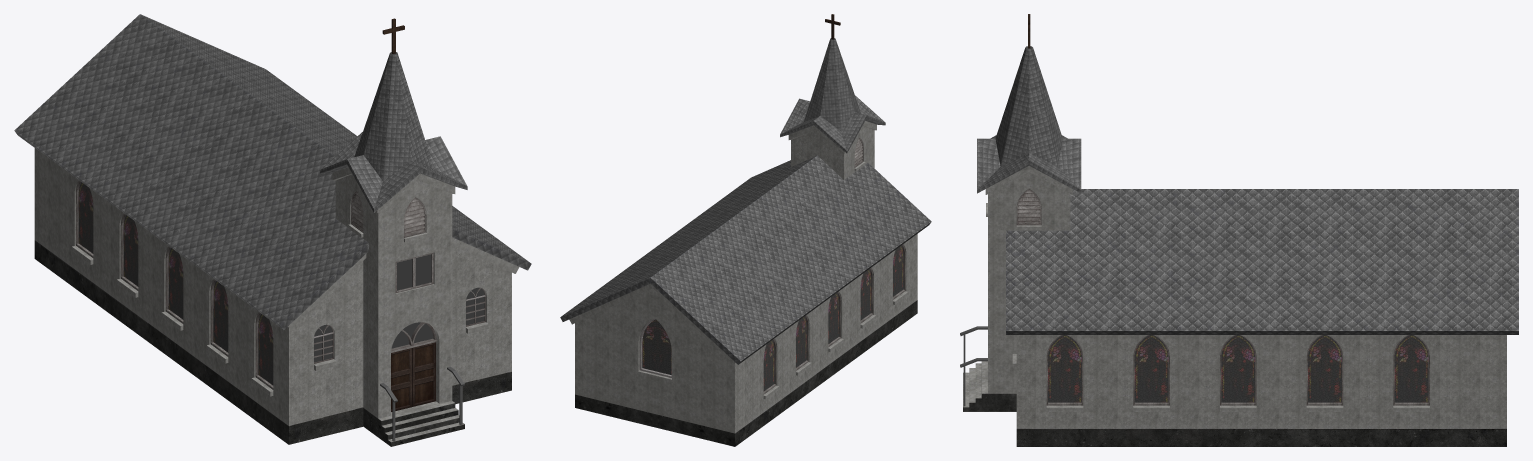
The model's file is stone_church.glb.
3 renders of one model, left to right at view 1: azimuth 30°, elevation 25°; view 2: azimuth 150°, elevation 25°; view 3: azimuth 270°, elevation 25°, orthographic. The views are drawn at different scales.
Parts seen in each view (by area): view 1: Object_4, Object_3; view 2: Object_4, Object_3; view 3: Object_4, Object_3.
Boxes of the visible parts, bbox=[...] form: Object_4: bbox=[14, 14, 531, 444]; Object_3: bbox=[320, 18, 467, 446]; Object_4: bbox=[560, 155, 931, 446]; Object_3: bbox=[780, 14, 885, 179]; Object_4: bbox=[1006, 189, 1518, 446]; Object_3: bbox=[960, 14, 1081, 411].
Bounding box in the file's own units: 2.26 × 3.37 × 4.5.
2 materials, 2 textured.
